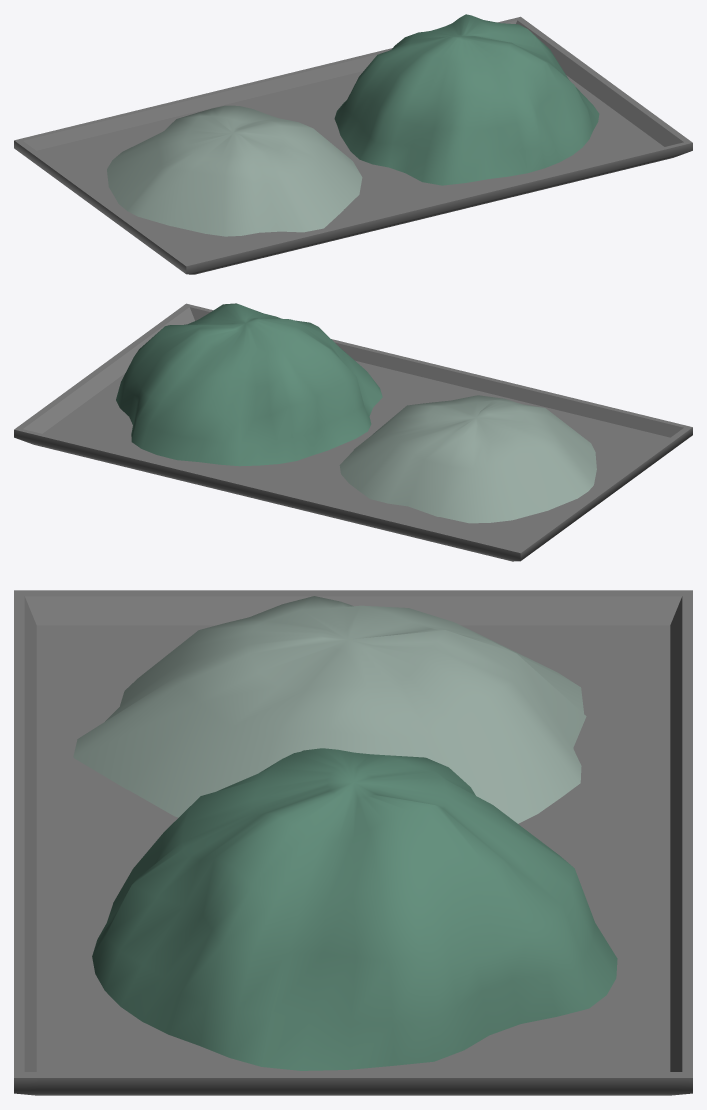
File: Bandeja 2.fbx
3 views of the same model, one above another, from view 1: azimuth 30°, elevation 25°; view 2: azimuth 150°, elevation 25°; view 3: azimuth 270°, elevation 25° (orthographic). The views are drawn at different scales.
Parts seen in each view (by area): view 1: pSphere7; view 2: pSphere7; view 3: pSphere7.
Part boxes in pixels (x1,y1,x2,y2): pSphere7: (14,14,692,274); pSphere7: (14,303,692,561); pSphere7: (14,590,692,1095).
Size of the model in its own units: 110 by 20.5 by 64.98.
